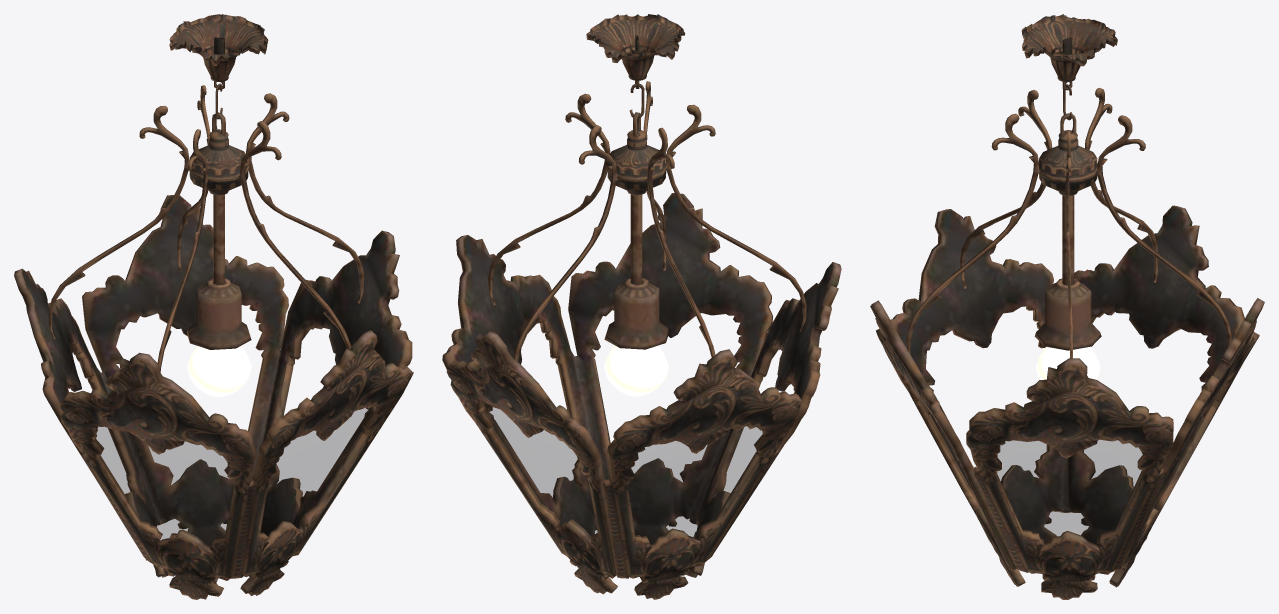
Rendered from lantern_chandelier_01.glb.
3 views of the same model, side by side, from view 1: azimuth 30°, elevation 25°; view 2: azimuth 150°, elevation 25°; view 3: azimuth 270°, elevation 25° (orthographic).
Visible parts, largest first — view 1: lantern_chandelier_01; view 2: lantern_chandelier_01; view 3: lantern_chandelier_01.
Part boxes in pixels (x1,y1,x2,y2): lantern_chandelier_01: (14, 14, 413, 599); lantern_chandelier_01: (442, 14, 841, 599); lantern_chandelier_01: (870, 14, 1264, 599).
Bounding box in the file's own units: 0.5792 × 0.8776 × 0.5746.
3 materials, 2 textured.
